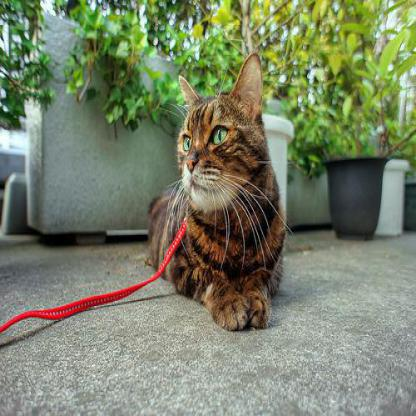cat: (146, 54, 286, 332)
